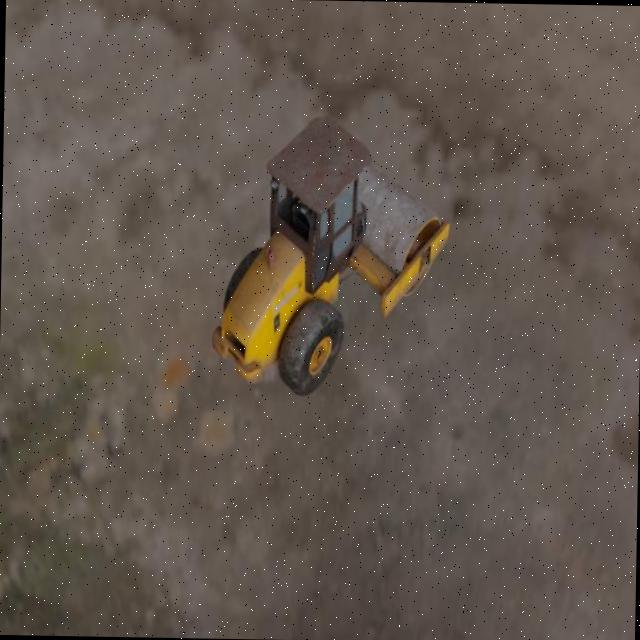Roller: (210, 113, 450, 398)
